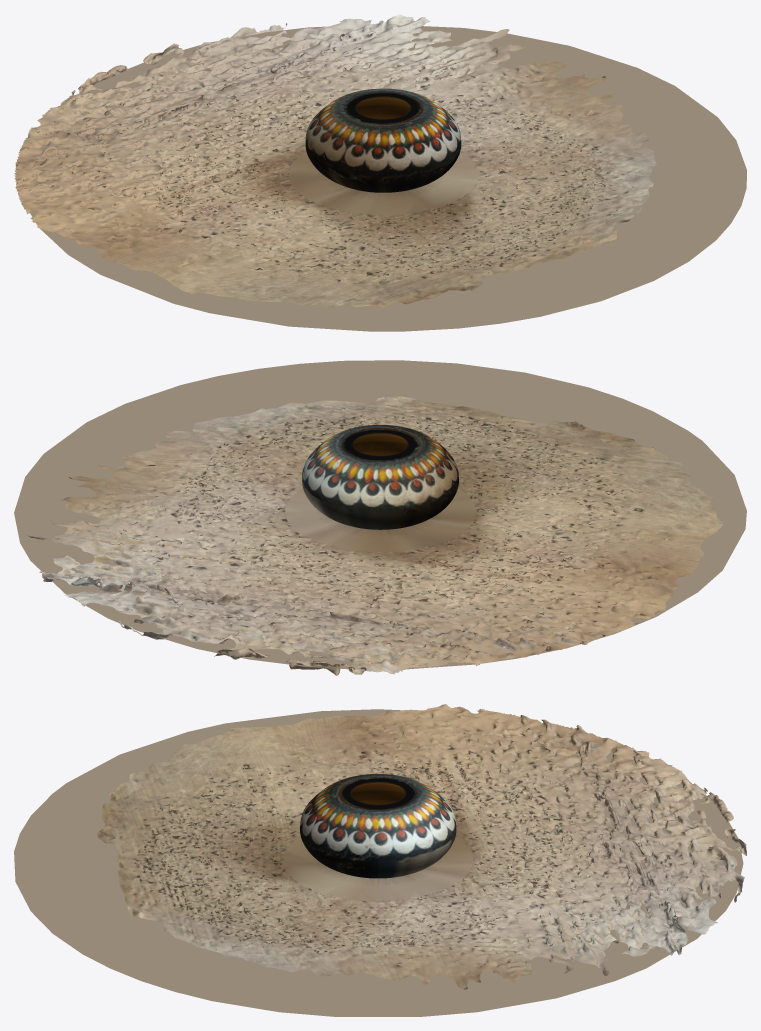
File: tasita.glb
3 renders of one model, top to bottom at view 1: azimuth 30°, elevation 25°; view 2: azimuth 150°, elevation 25°; view 3: azimuth 270°, elevation 25°, orthographic.
Parts seen in each view (by area): view 1: objeto, base_rellenada, tasita, mesa_parche; view 2: objeto, base_rellenada, tasita, mesa_parche; view 3: objeto, base_rellenada, tasita, mesa_parche.
Boxes of the visible parts, <box> form: objeto: <box>14,14,656,307</box>; base_rellenada: <box>30,26,746,331</box>; tasita: <box>305,88,461,192</box>; mesa_parche: <box>288,151,477,215</box>; objeto: <box>24,395,723,675</box>; base_rellenada: <box>14,360,746,669</box>; tasita: <box>302,425,458,529</box>; mesa_parche: <box>285,488,476,552</box>; objeto: <box>97,704,746,989</box>; base_rellenada: <box>14,709,743,1016</box>; tasita: <box>300,774,456,878</box>; mesa_parche: <box>283,837,473,900</box>.
Size of the model in its own units: 0.345 by 0.0399 by 0.3473.
Materials: 5 (2 with a texture image).
